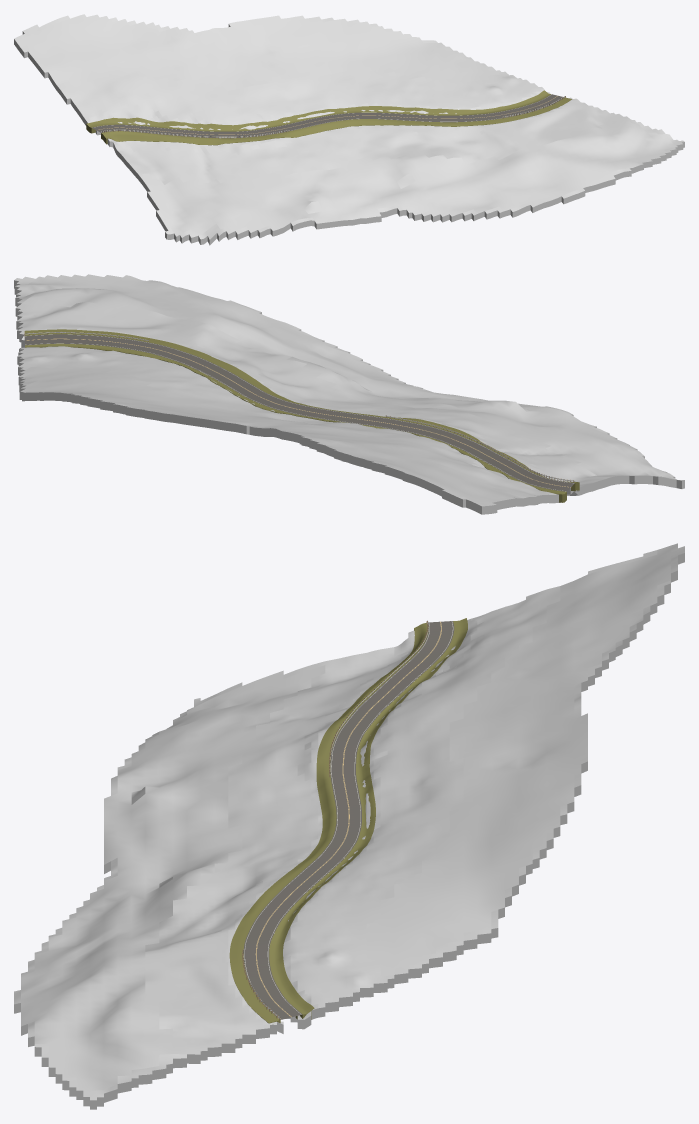
File: conz_146.glb
The picture shows the model from 3 angles, top to bottom: view 1: azimuth 30°, elevation 25°; view 2: azimuth 150°, elevation 25°; view 3: azimuth 270°, elevation 25°; orthographic projection. The views are drawn at different scales.
Parts seen in each view (by area): view 1: terrain146, road146, verge146L, verge146R; view 2: terrain146, road146, verge146L, verge146R, paint_white146, paint_yellow146; view 3: terrain146, road146, verge146L, verge146R, paint_white146.
Part boxes in pixels (left/top/right/bottom): terrain146: left=14, top=14, right=684, bottom=245; road146: left=92, top=94, right=564, bottom=138; verge146L: left=101, top=97, right=571, bottom=145; verge146R: left=86, top=90, right=550, bottom=133; terrain146: left=14, top=274, right=684, bottom=514; road146: left=24, top=334, right=574, bottom=491; verge146L: left=24, top=329, right=579, bottom=491; verge146R: left=25, top=343, right=566, bottom=502; paint_white146: left=25, top=334, right=573, bottom=491; paint_yellow146: left=26, top=338, right=570, bottom=487; terrain146: left=14, top=543, right=684, bottom=1109; road146: left=243, top=621, right=454, bottom=1019; verge146L: left=229, top=622, right=428, bottom=1023; verge146R: left=269, top=618, right=467, bottom=1019; paint_white146: left=244, top=621, right=453, bottom=1019.
Size of the model in its own units: 274 by 63.64 by 194.
